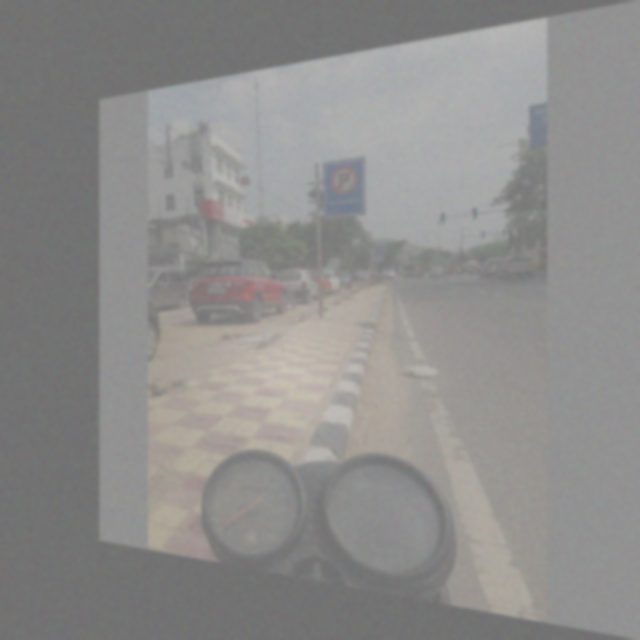No_Parking: (324, 157, 365, 200)
